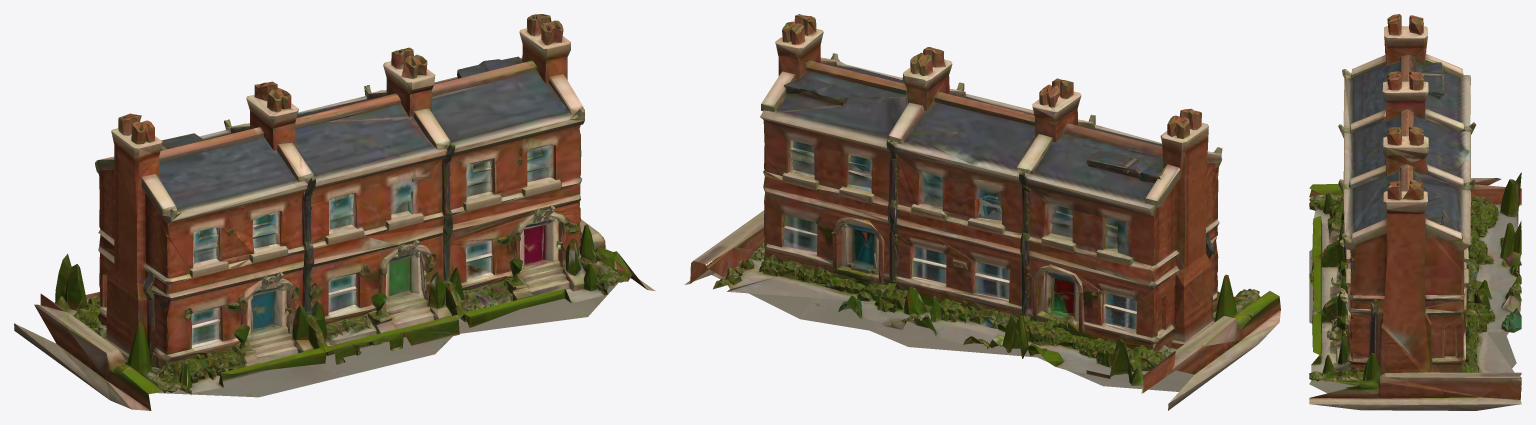
Rendered from terrace_2x1_plain.glb.
3 views of the same model, side by side, from view 1: azimuth 30°, elevation 25°; view 2: azimuth 150°, elevation 25°; view 3: azimuth 270°, elevation 25° (orthographic). The views are drawn at different scales.
Visible parts, largest first — view 1: normalize; view 2: normalize; view 3: normalize.
Part boxes in pixels (left/top/right/bottom): normalize: left=14, top=14, right=655, bottom=410; normalize: left=684, top=14, right=1280, bottom=410; normalize: left=1309, top=14, right=1521, bottom=410.
Bounding box in the file's own units: 1 × 0.4677 × 0.4323.
Materials: 1 (1 with a texture image).
